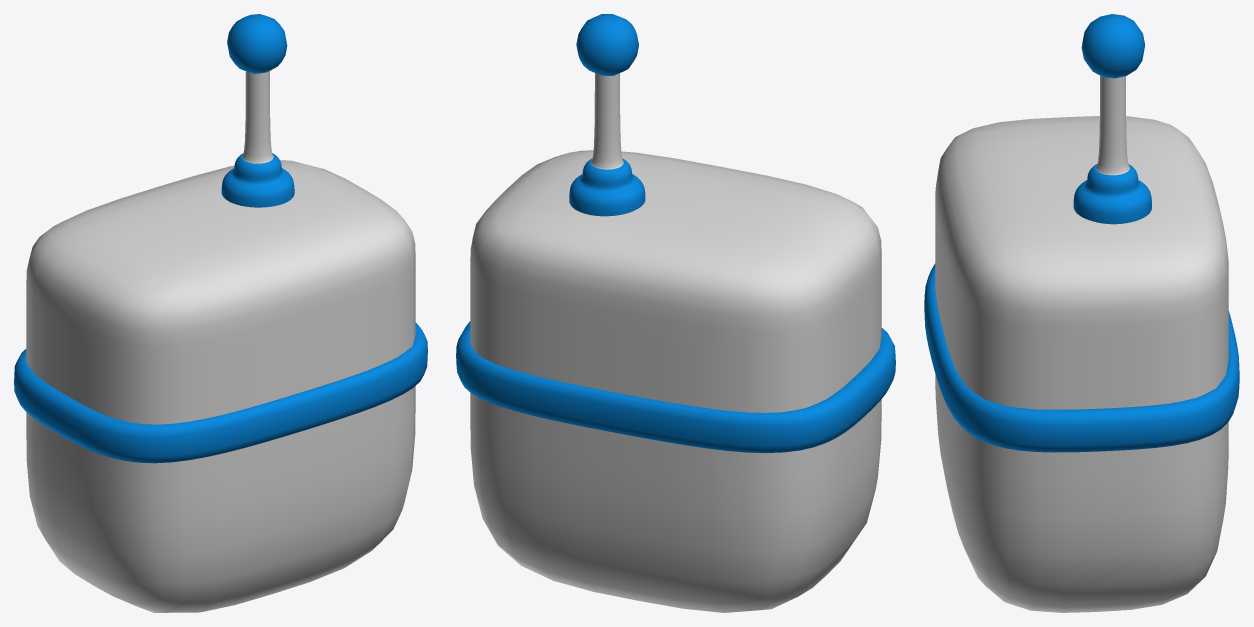
Rendered from jetpack.fbx.
3 views of the same model, side by side, from view 1: azimuth 30°, elevation 25°; view 2: azimuth 150°, elevation 25°; view 3: azimuth 270°, elevation 25° (orthographic). The views are drawn at different scales.
Visible parts, largest first — view 1: Cube.025; view 2: Cube.025; view 3: Cube.025.
Boxes of the visible parts, x1=… form: Cube.025: x1=14, y1=14, x2=427, y2=612; Cube.025: x1=456, y1=14, x2=895, y2=612; Cube.025: x1=924, y1=14, x2=1239, y2=612.
Bounding box in the file's own units: 41.64 × 59.53 × 29.51.
